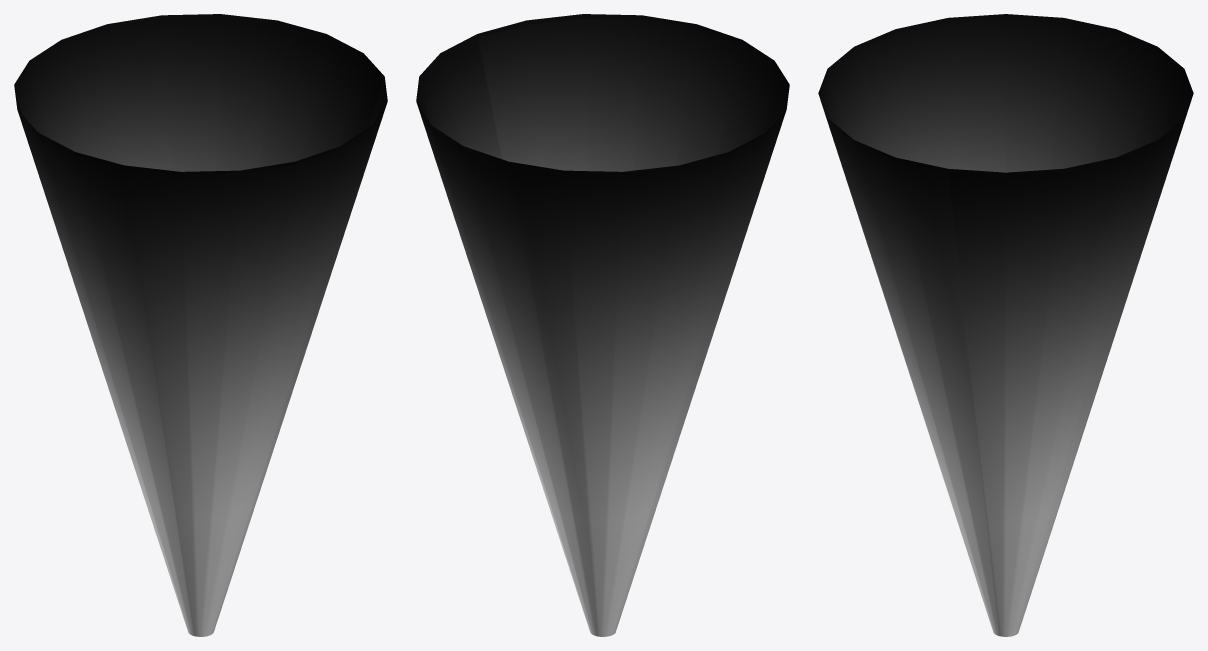
The model's file is Projector Beam.fbx.
3 renders of one model, left to right at view 1: azimuth 30°, elevation 25°; view 2: azimuth 150°, elevation 25°; view 3: azimuth 270°, elevation 25°, orthographic.
Parts seen in each view (by area): view 1: pCylinder181; view 2: pCylinder181; view 3: pCylinder181.
Boxes of the visible parts, bbox=[...] form: pCylinder181: bbox=[14, 14, 387, 636]; pCylinder181: bbox=[416, 14, 789, 636]; pCylinder181: bbox=[818, 14, 1193, 636].
Size of the model in its own units: 4.72 by 7.47 by 4.72.
1 material, 1 textured.
